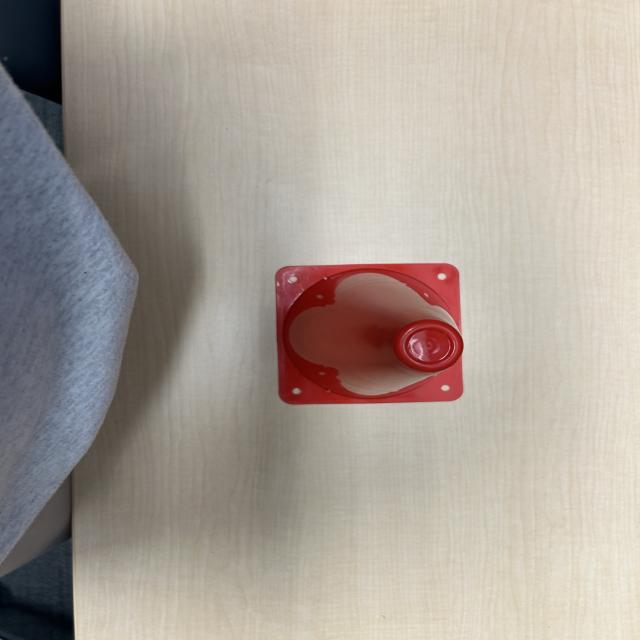orange cone: (269, 260, 472, 406)
